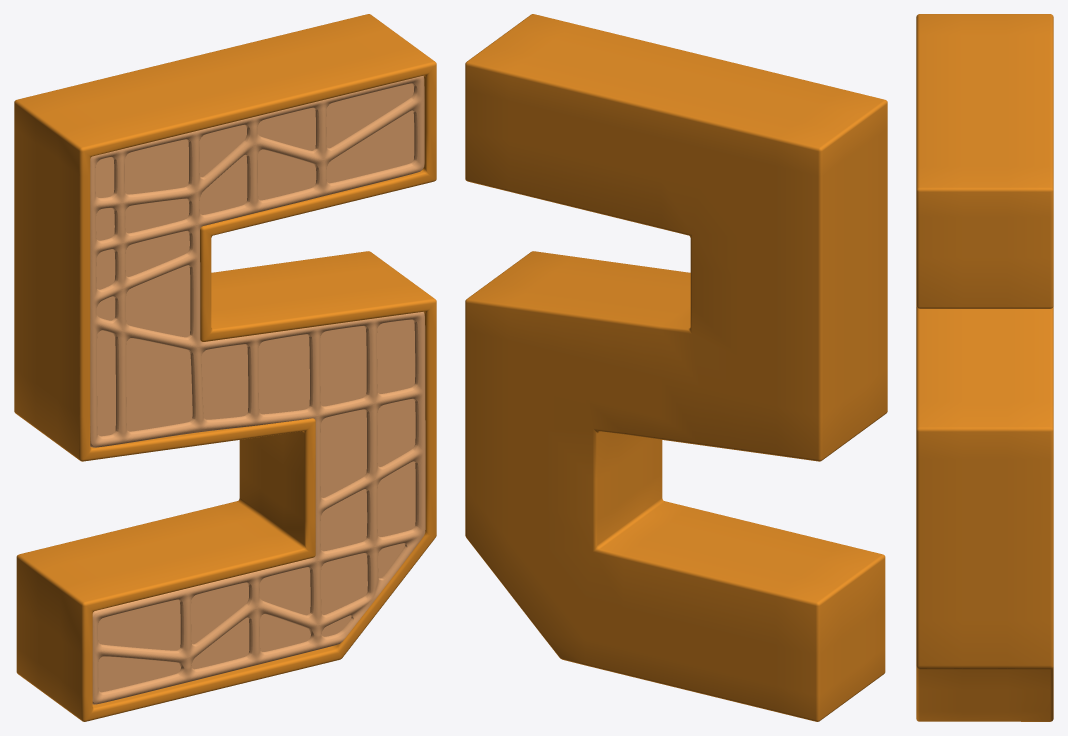
Rendered from 5_nuevo.glb.
The picture shows the model from 3 angles, left to right: view 1: azimuth 30°, elevation 25°; view 2: azimuth 150°, elevation 25°; view 3: azimuth 270°, elevation 25°; orthographic projection.
Parts seen in each view (by area): view 1: Text.032, Plane.055, Plane.073; view 2: Text.032; view 3: Text.032.
Part boxes in pixels (<box>): Text.032: <box>14,14,436,721</box>; Plane.055: <box>95,83,415,692</box>; Plane.073: <box>90,75,425,704</box>; Text.032: <box>465,14,887,721</box>; Text.032: <box>916,14,1053,721</box>.
Bounding box in the file's own units: 1.41 × 2.17 × 0.4652.
